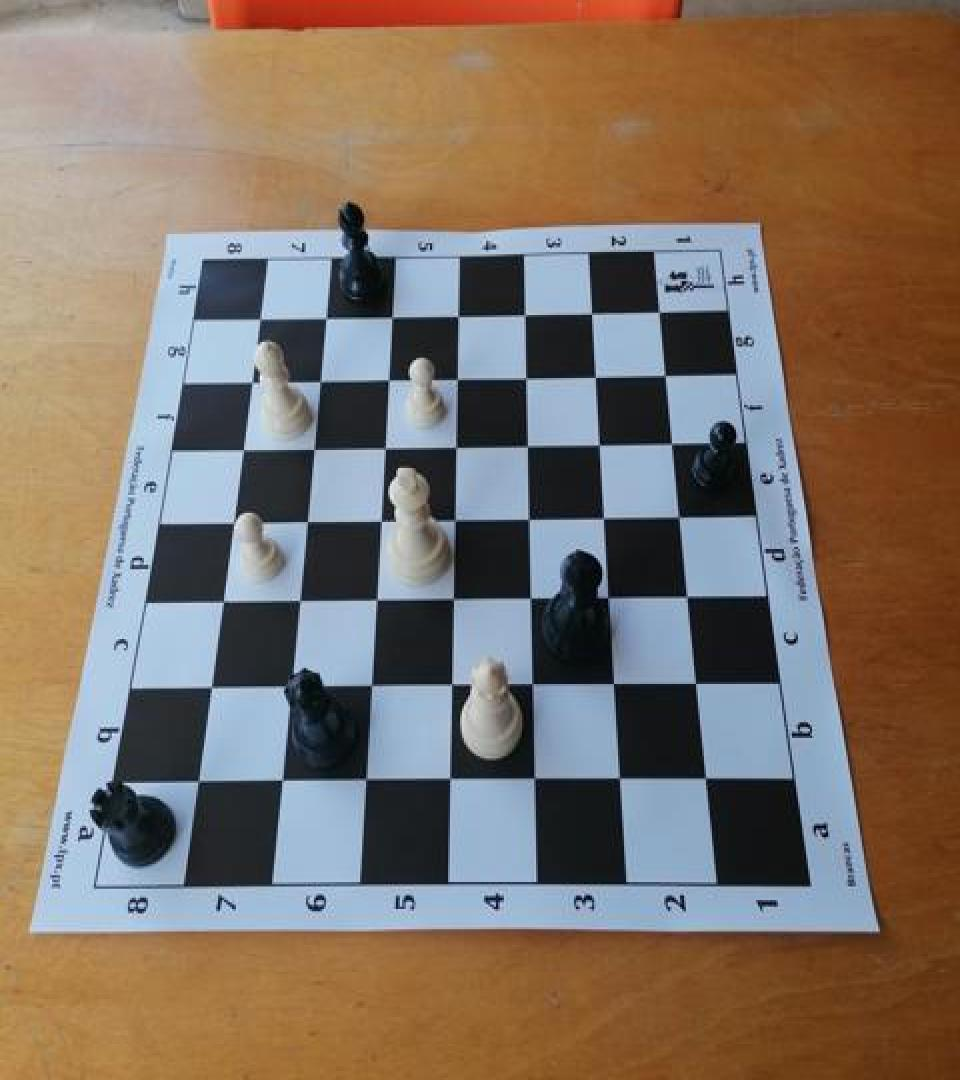xcorner: (179, 767, 209, 801), (264, 766, 294, 800), (348, 766, 378, 800), (433, 766, 463, 800), (519, 766, 549, 800), (605, 765, 635, 799), (692, 765, 722, 799), (354, 670, 384, 704), (435, 670, 465, 704), (517, 669, 547, 703), (599, 669, 629, 703), (682, 668, 712, 702), (205, 585, 235, 619), (282, 584, 312, 618), (359, 584, 389, 618), (437, 582, 467, 616), (515, 582, 545, 616), (594, 582, 624, 616), (673, 580, 703, 614), (216, 505, 246, 539), (290, 504, 320, 538), (364, 504, 394, 538), (439, 503, 469, 537), (514, 502, 544, 536), (665, 500, 695, 534), (227, 432, 257, 466), (298, 431, 328, 465), (369, 430, 399, 464), (441, 428, 471, 462), (513, 428, 543, 462), (585, 426, 615, 460), (658, 425, 688, 459), (236, 364, 266, 398), (304, 363, 334, 397), (373, 362, 403, 396), (442, 360, 472, 394), (511, 359, 541, 393), (581, 358, 611, 392), (651, 356, 681, 390), (311, 300, 341, 334), (377, 298, 407, 332), (443, 297, 473, 331), (510, 296, 540, 330), (577, 294, 607, 328), (193, 672, 223, 705), (273, 672, 303, 705), (589, 501, 619, 534), (245, 302, 275, 335), (644, 294, 674, 327)
